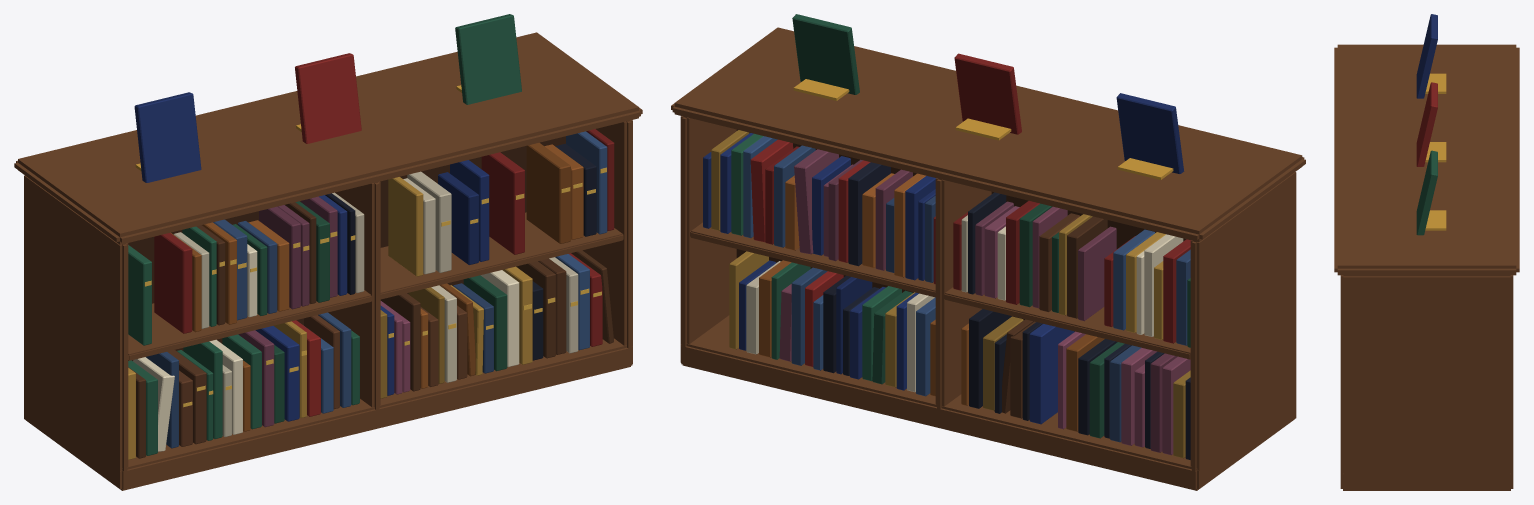
File: lowshelf.glb
3 views of the same model, side by side, from view 1: azimuth 30°, elevation 25°; view 2: azimuth 150°, elevation 25°; view 3: azimuth 270°, elevation 25° (orthographic). The views are drawn at different scales.
Visible parts, largest first — view 1: lowshelf_wood, lowshelf_books, lowshelf_wood_dark, lowshelf_gold_leaf; view 2: lowshelf_wood, lowshelf_books, lowshelf_brass, lowshelf_wood_dark; view 3: lowshelf_wood, lowshelf_books, lowshelf_brass.
Boxes of the visible parts, left/top/right/bottom form: lowshelf_wood: left=14, top=32, right=642, bottom=490; lowshelf_books: left=128, top=14, right=614, bottom=459; lowshelf_wood_dark: left=128, top=136, right=565, bottom=360; lowshelf_gold_leaf: left=144, top=167, right=606, bottom=407; lowshelf_wood: left=671, top=27, right=1305, bottom=490; lowshelf_books: left=703, top=14, right=1190, bottom=459; lowshelf_brass: left=793, top=79, right=1173, bottom=179; lowshelf_wood_dark: left=736, top=129, right=1186, bottom=331; lowshelf_wood: left=1334, top=44, right=1519, bottom=490; lowshelf_books: left=1416, top=14, right=1437, bottom=235; lowshelf_brass: left=1425, top=73, right=1446, bottom=230.
Bounding box in the file's own units: 2.46 × 1.48 × 0.86.
